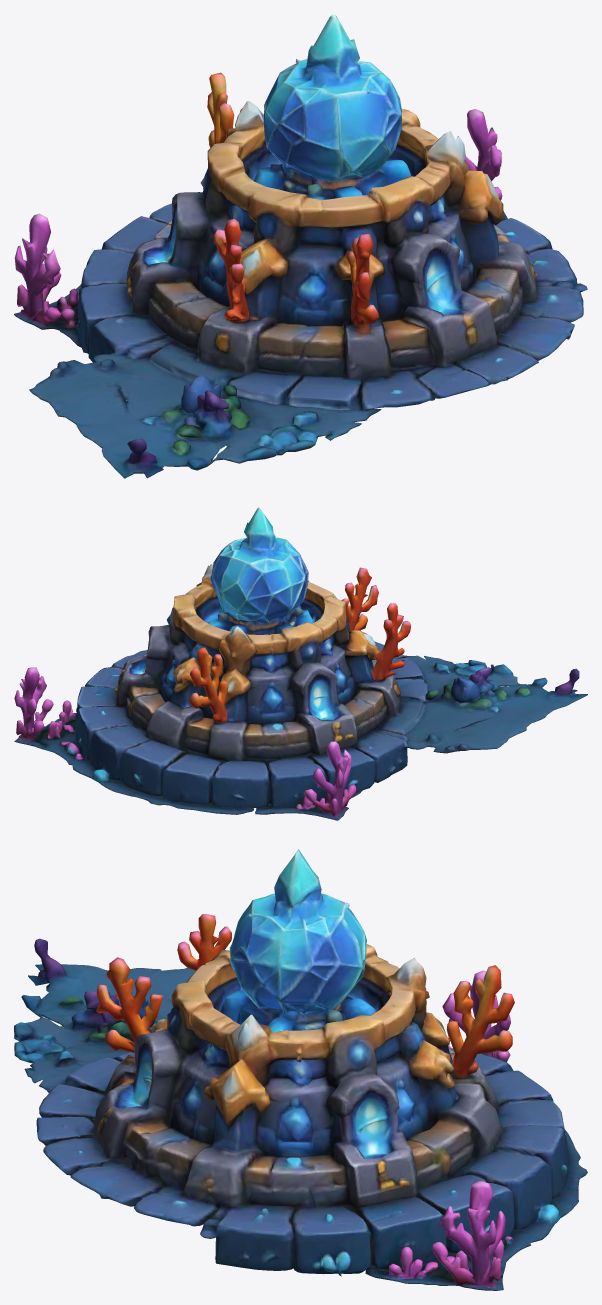
The model's file is water-base-1.glb.
3 views of the same model, one above another, from view 1: azimuth 30°, elevation 25°; view 2: azimuth 150°, elevation 25°; view 3: azimuth 270°, elevation 25° (orthographic). The views are drawn at different scales.
Parts seen in each view (by area): view 1: tripo_node_2ae78c27-7370-46fb-be62-ef8ffdaabbe5; view 2: tripo_node_2ae78c27-7370-46fb-be62-ef8ffdaabbe5; view 3: tripo_node_2ae78c27-7370-46fb-be62-ef8ffdaabbe5.
Boxes of the visible parts, box(x1,y1,x2,y2) form: tripo_node_2ae78c27-7370-46fb-be62-ef8ffdaabbe5: box(14, 14, 587, 478); tripo_node_2ae78c27-7370-46fb-be62-ef8ffdaabbe5: box(14, 507, 587, 820); tripo_node_2ae78c27-7370-46fb-be62-ef8ffdaabbe5: box(14, 849, 587, 1290).
Size of the model in its own units: 1 by 0.5208 by 0.8426.
1 material, 1 textured.
